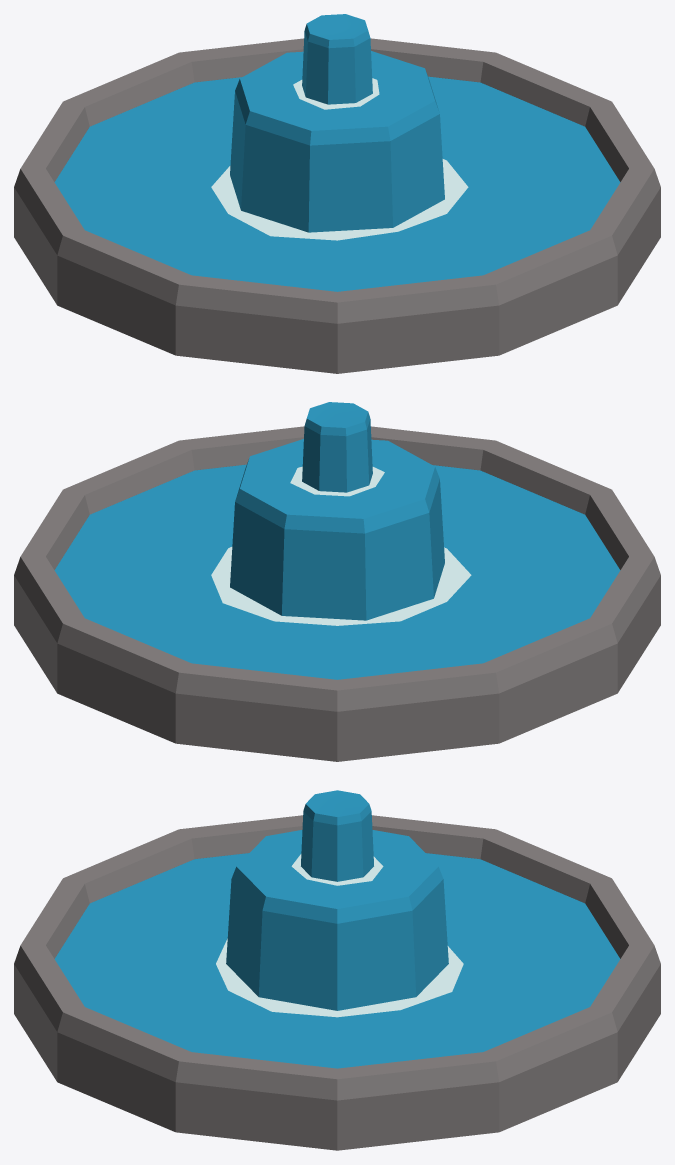
The model's file is props_fountain.fbx.
The picture shows the model from 3 angles, top to bottom: view 1: azimuth 30°, elevation 25°; view 2: azimuth 150°, elevation 25°; view 3: azimuth 270°, elevation 25°; orthographic projection.
Visible parts, largest first — view 1: props_fountain; view 2: props_fountain; view 3: props_fountain.
Boxes of the visible parts, x1,y1,x2,y2 form: props_fountain: (14, 14, 660, 373); props_fountain: (14, 402, 660, 761); props_fountain: (14, 790, 660, 1150).
Bounding box in the file's own units: 200 × 71.72 × 200.
